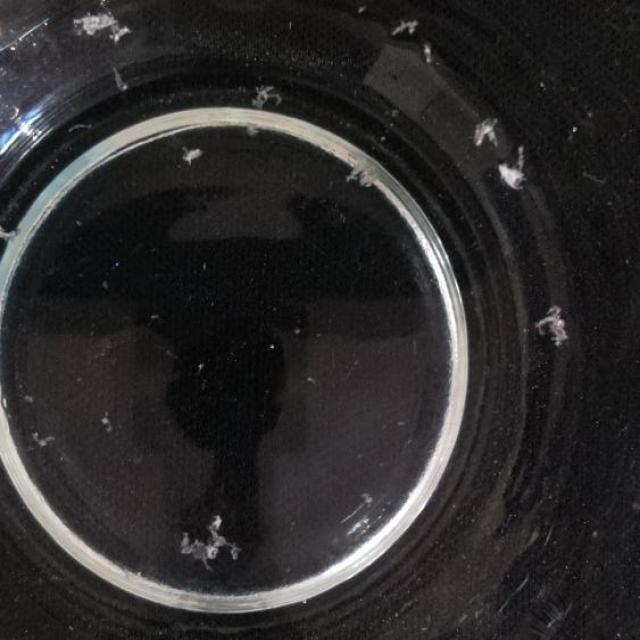fiber: (171, 500, 241, 576), (64, 0, 126, 52), (528, 300, 570, 360), (336, 146, 384, 197), (243, 82, 284, 138), (496, 148, 533, 199), (389, 11, 424, 45), (465, 118, 497, 155), (176, 131, 207, 165), (104, 60, 130, 96), (416, 42, 446, 70), (0, 216, 20, 250)
